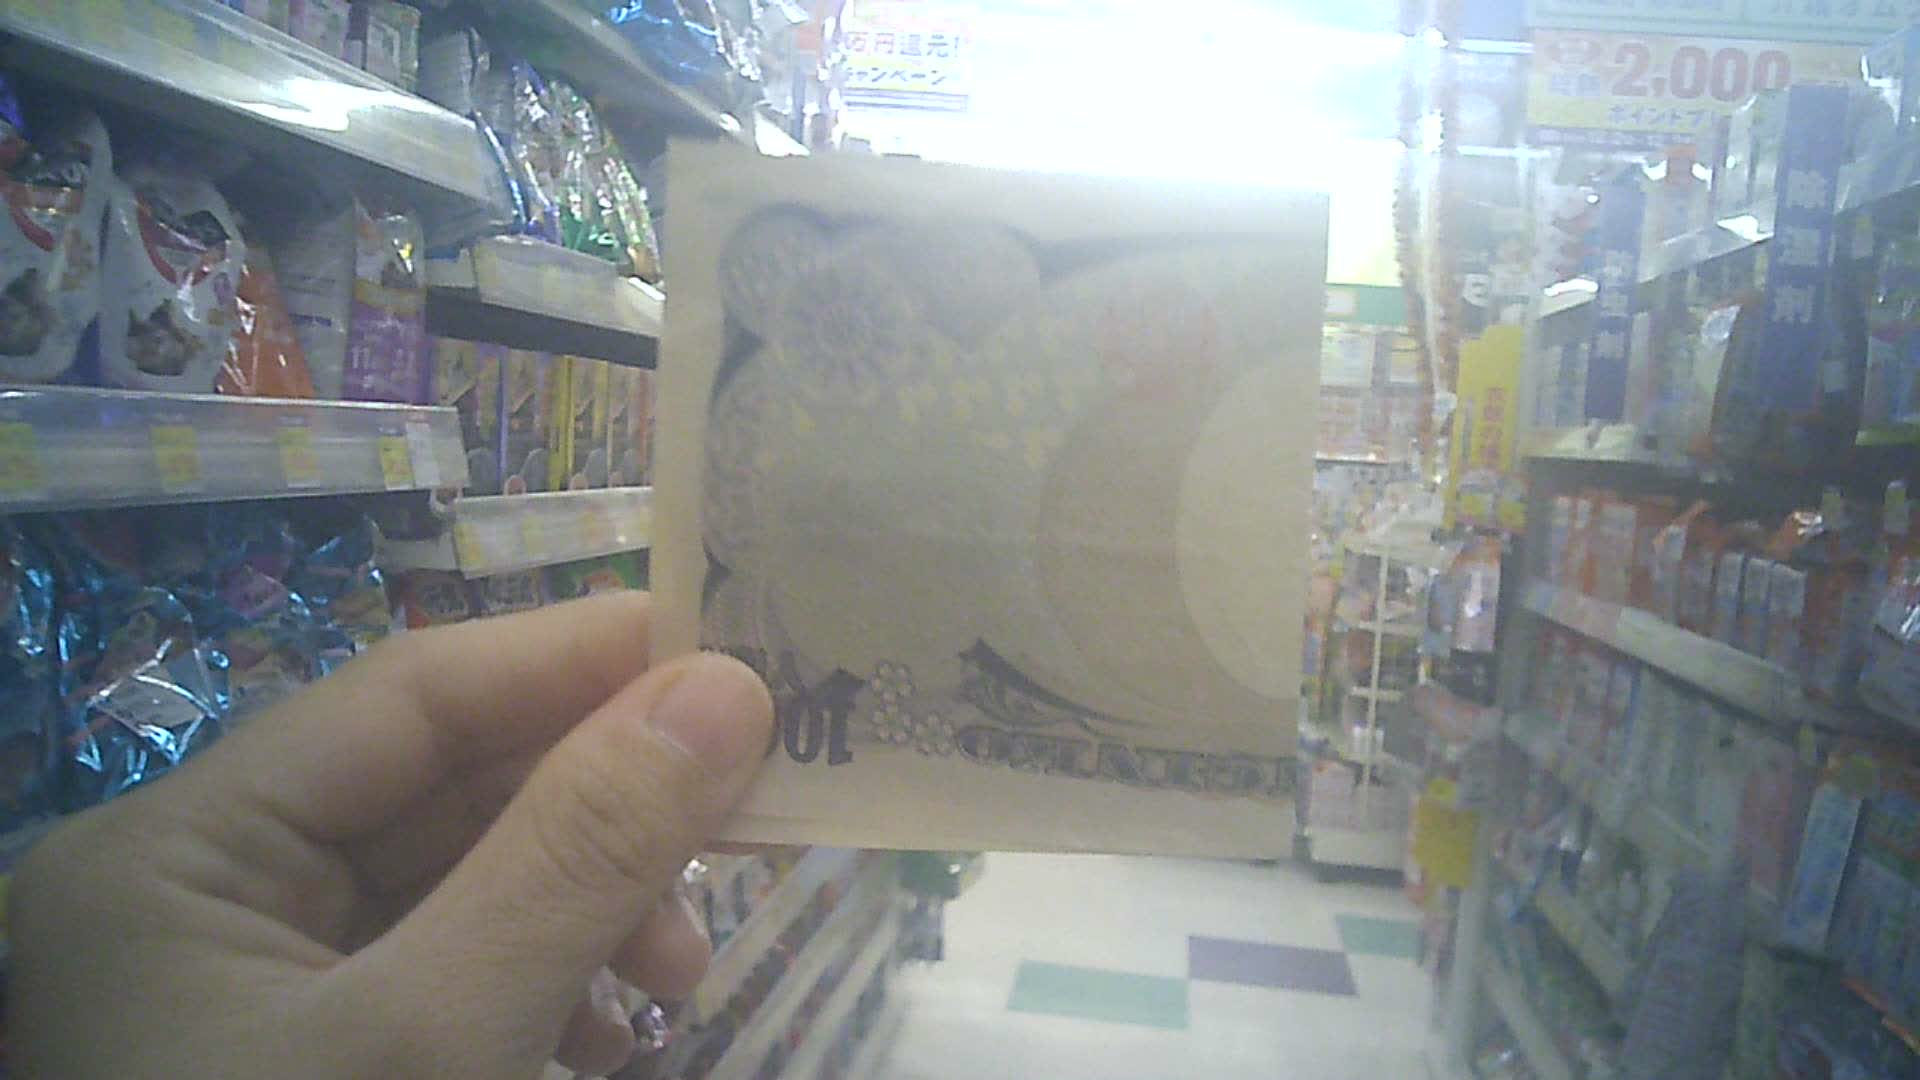1,000 Yen: (644, 120, 1365, 876)
